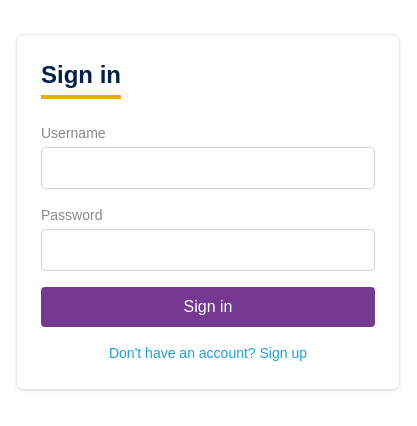
Scenario: LoginForm › shows an error message when login fails
Click the button "Sign in": click(208, 307) [41,287,375,327]
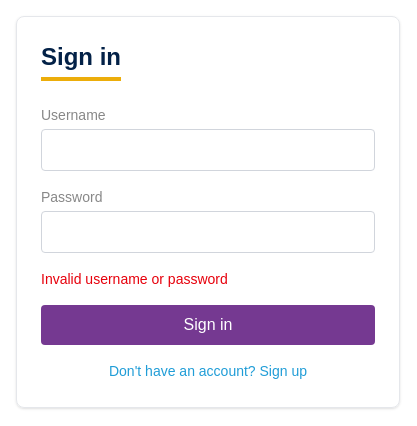
Check: the text "Invalid username or password" is shown, box [41,271,228,287]
